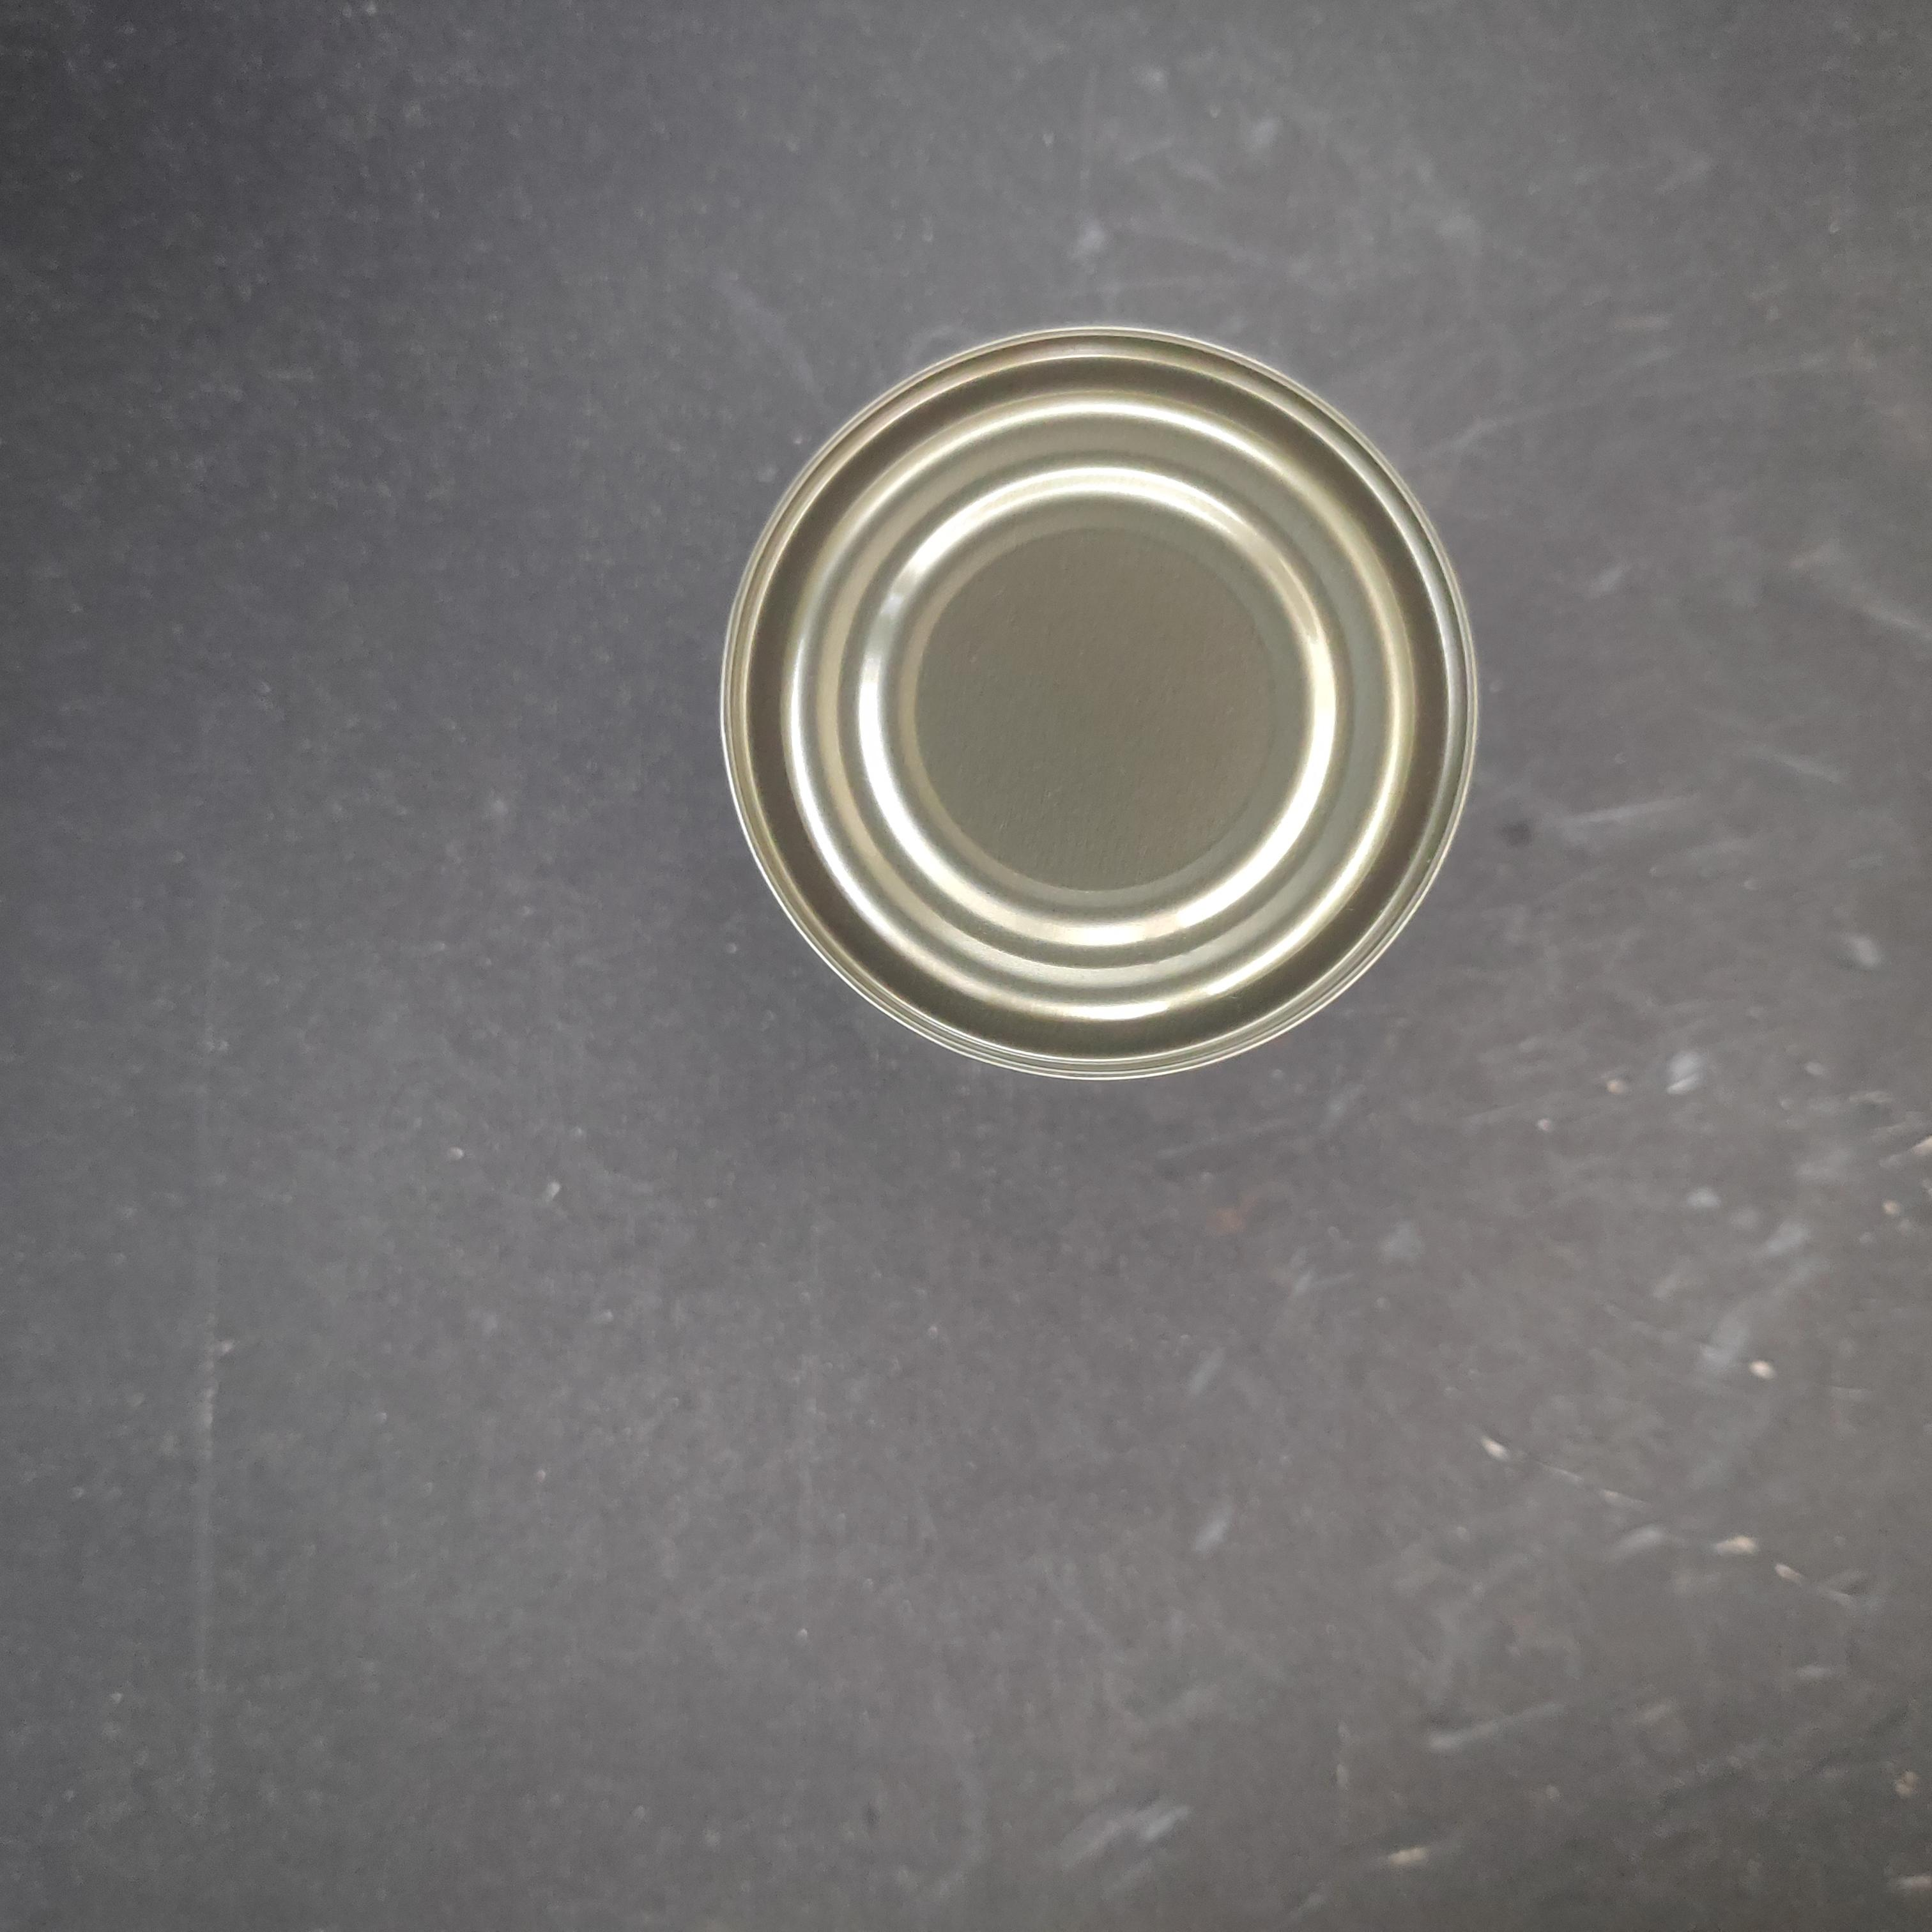No defect: (850, 717, 1611, 1483)
